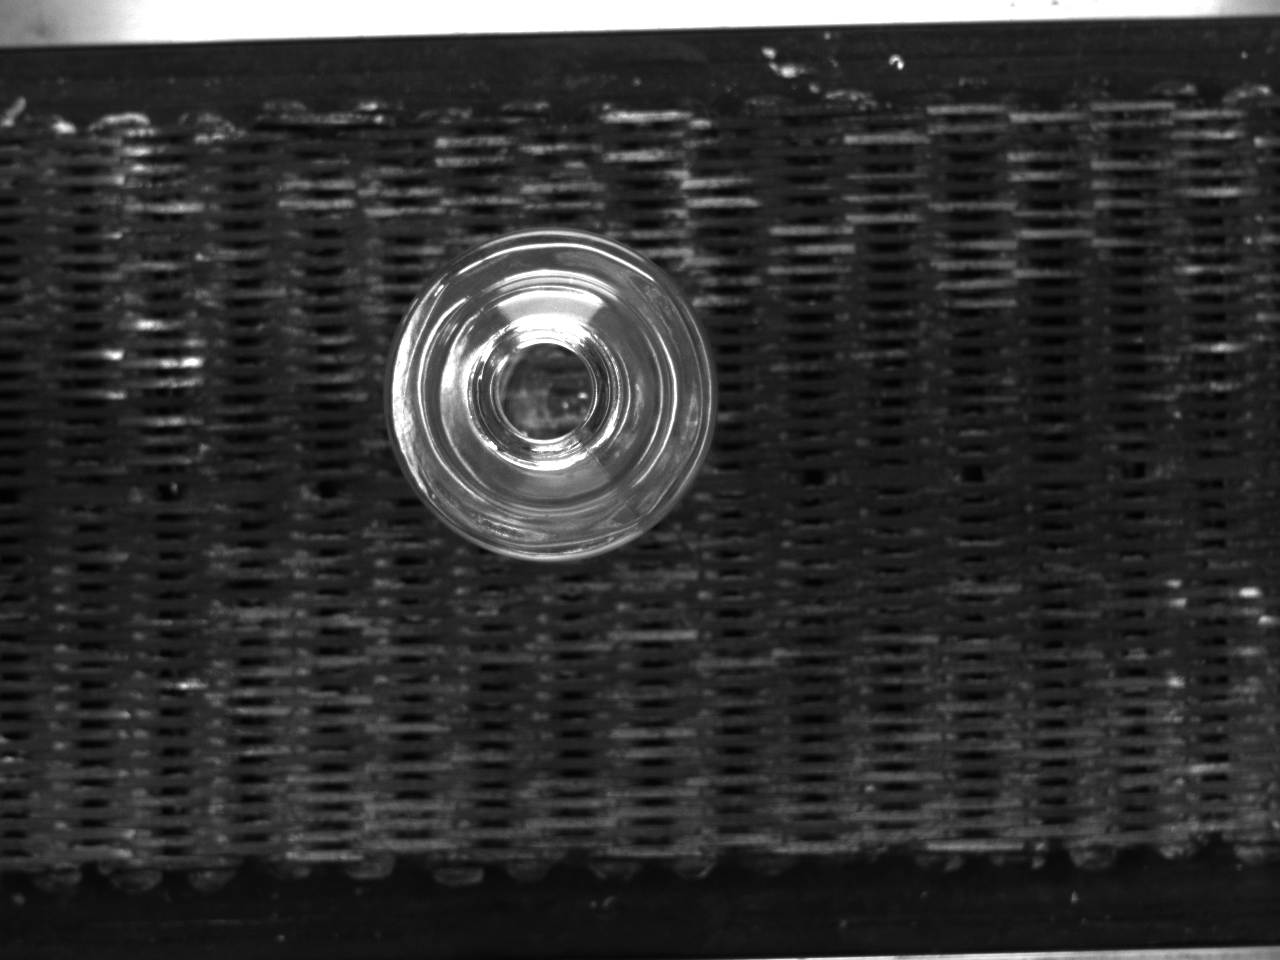bottleneck: (469, 314, 623, 471)
